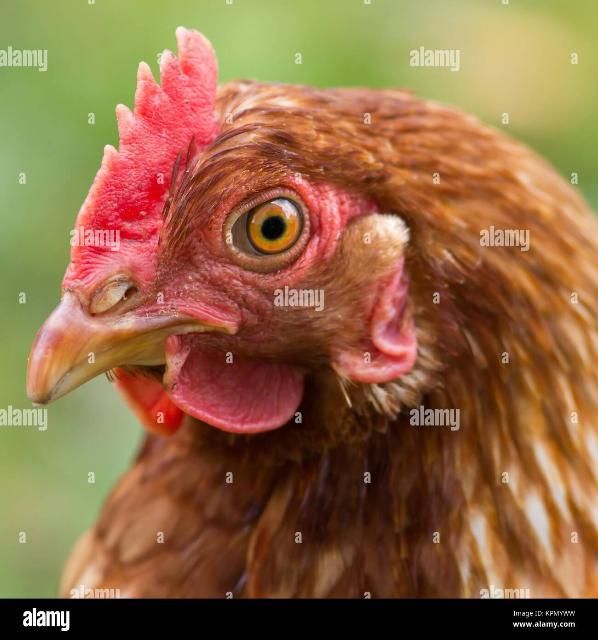Chicken: (27, 23, 598, 597)
